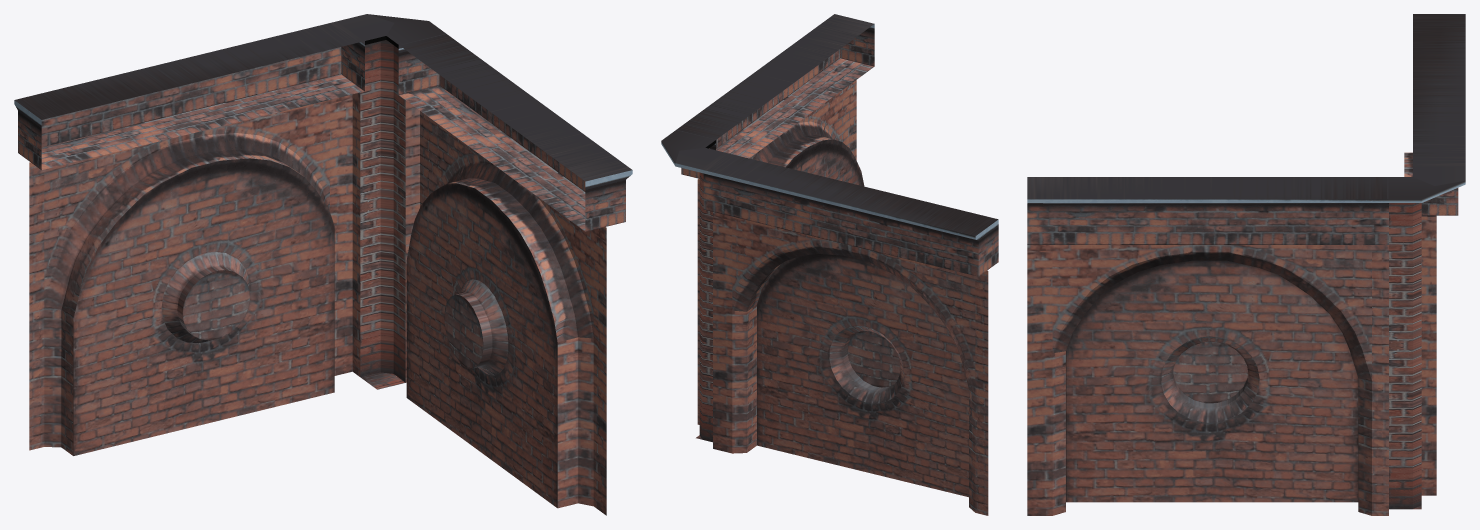
Rendered from corner.glb.
3 renders of one model, left to right at view 1: azimuth 30°, elevation 25°; view 2: azimuth 150°, elevation 25°; view 3: azimuth 270°, elevation 25°, orthographic. The views are drawn at different scales.
Parts seen in each view (by area): view 1: Corner; view 2: Corner; view 3: Corner.
Boxes of the visible parts, bbox=[...] form: Corner: bbox=[14, 14, 632, 515]; Corner: bbox=[661, 14, 998, 515]; Corner: bbox=[1027, 14, 1465, 515].
Size of the model in its own units: 1.21 by 1 by 1.21.
1 material, 1 textured.
